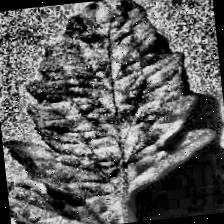leaf mold: (0, 0, 222, 224)
